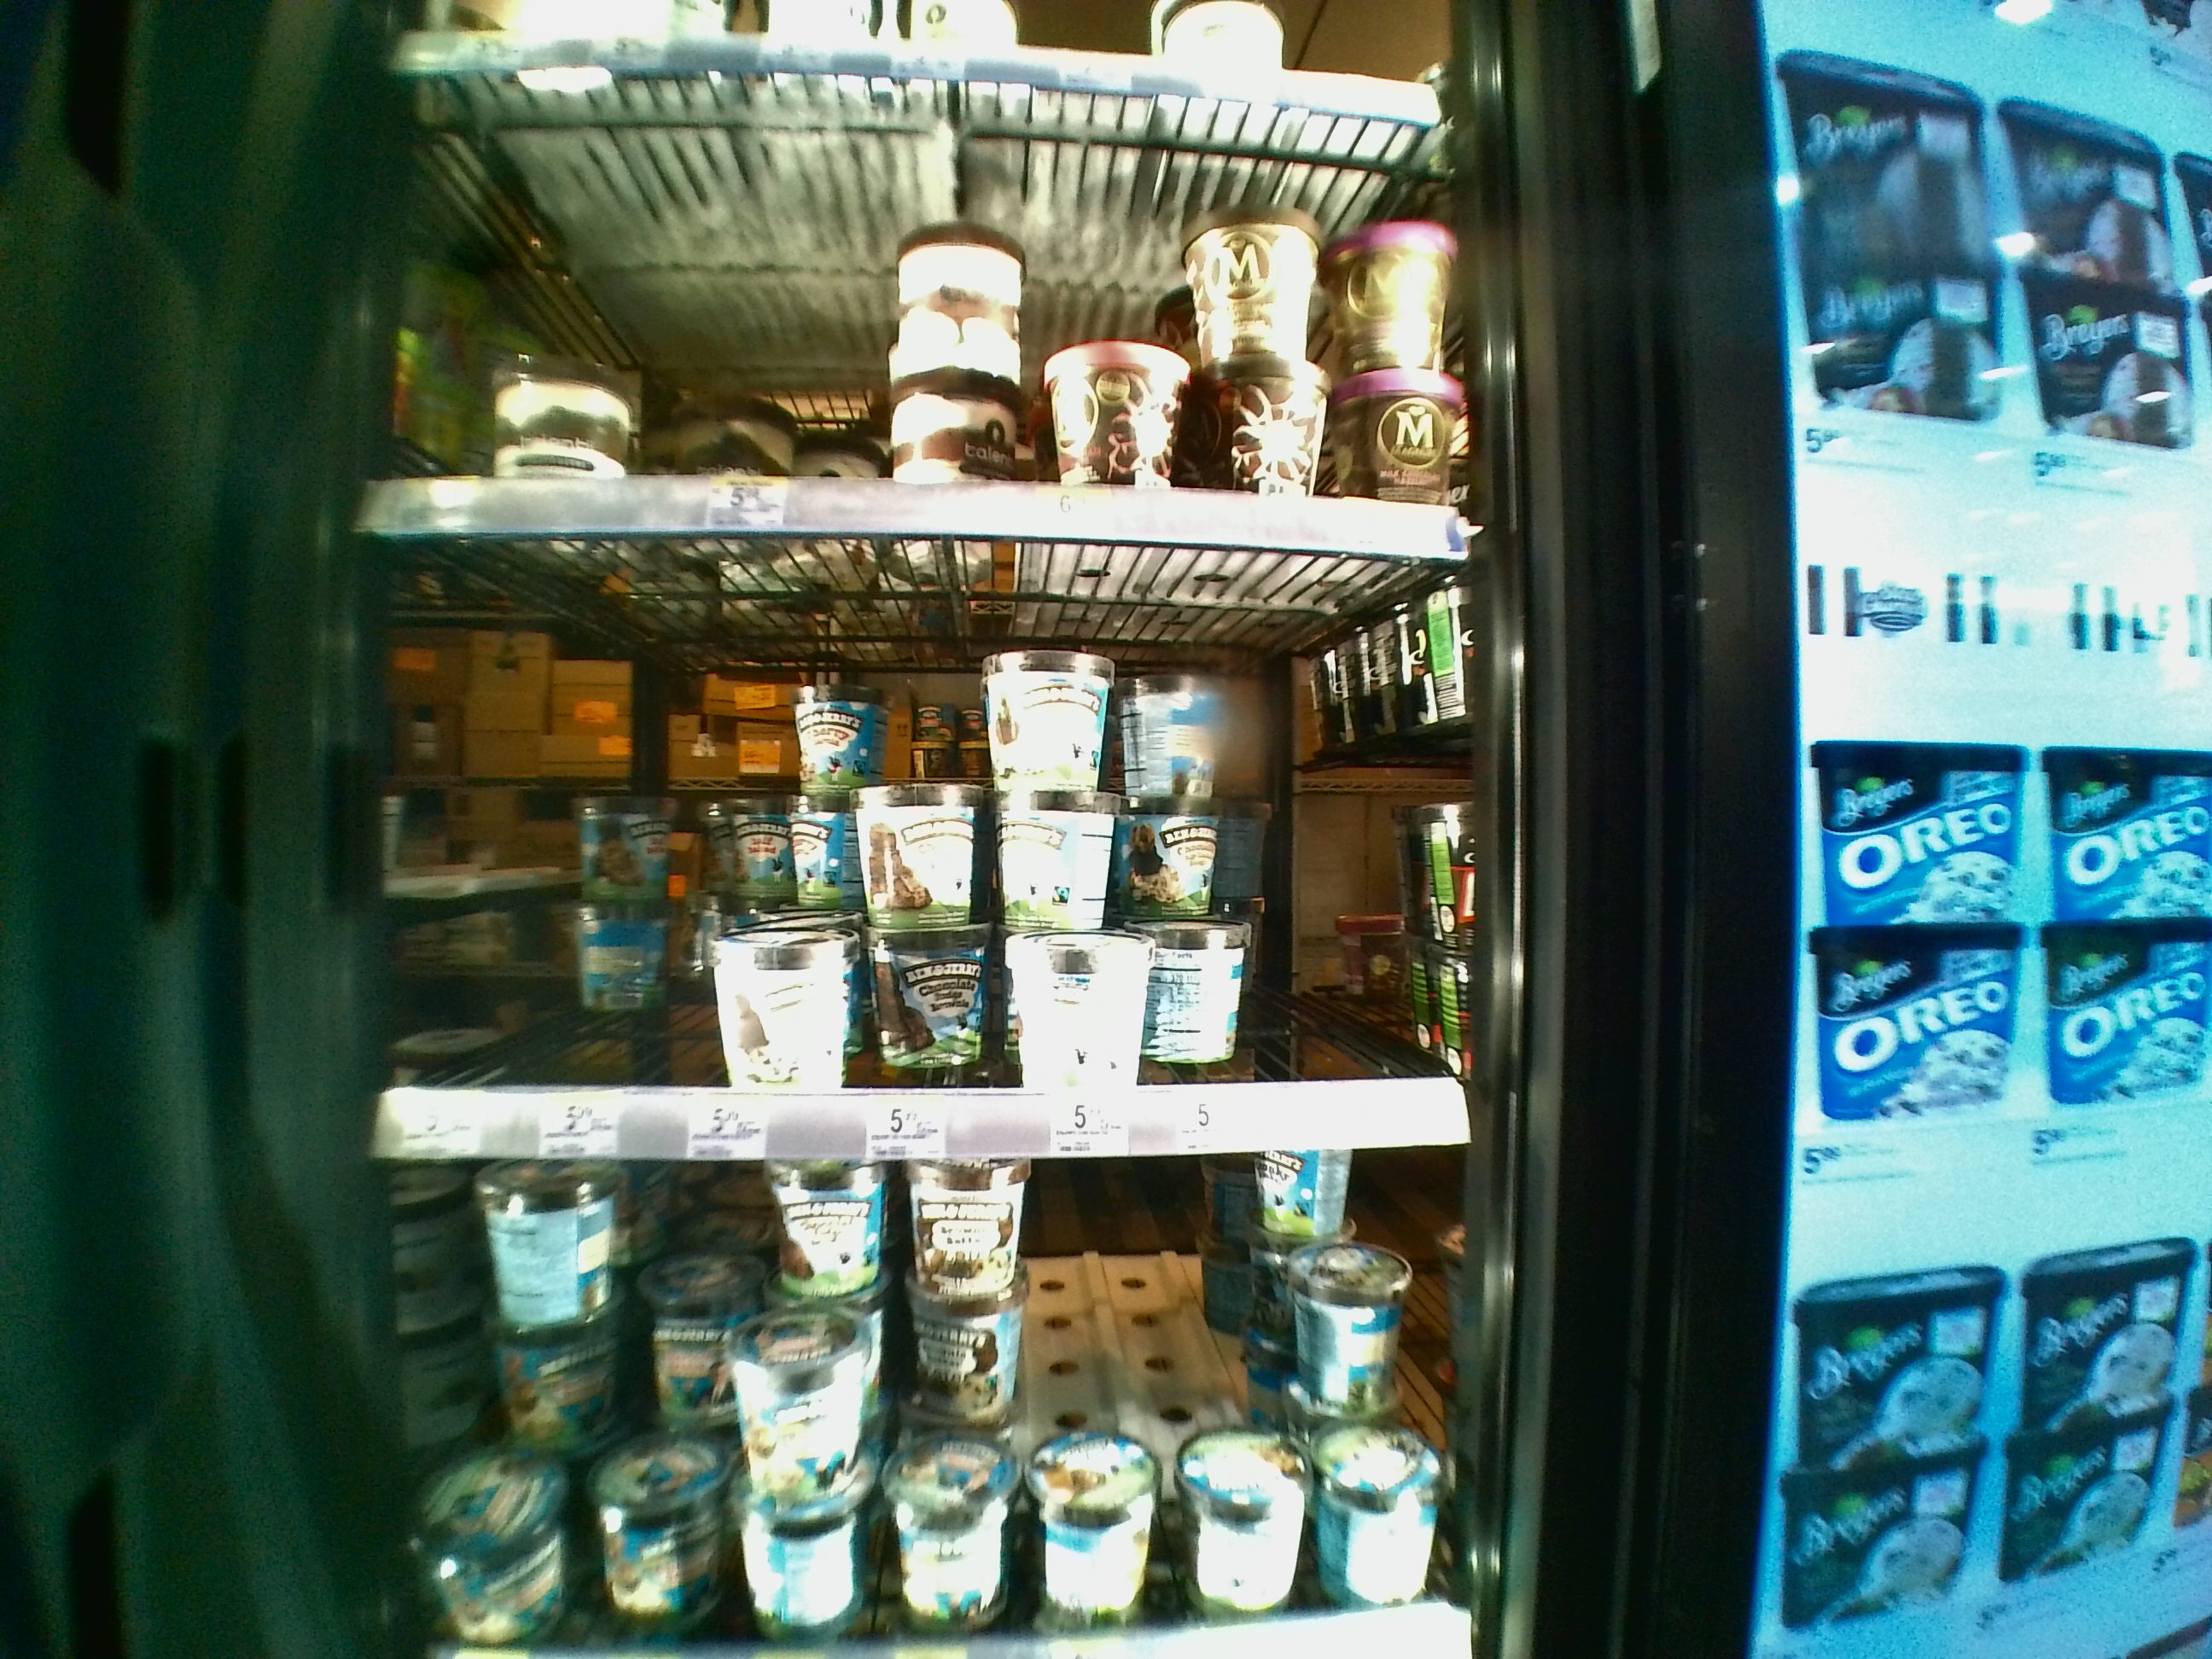shelf: (341, 552, 1491, 1154), (340, 82, 1486, 535)
